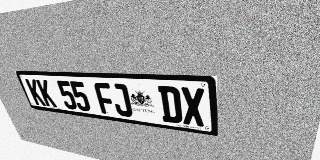5: (69, 81, 92, 112), (56, 80, 79, 110)
D: (158, 86, 183, 124)
F: (93, 82, 117, 115)
J: (109, 83, 133, 117)
K: (36, 79, 57, 107), (25, 79, 46, 106)
X: (180, 87, 205, 127)
